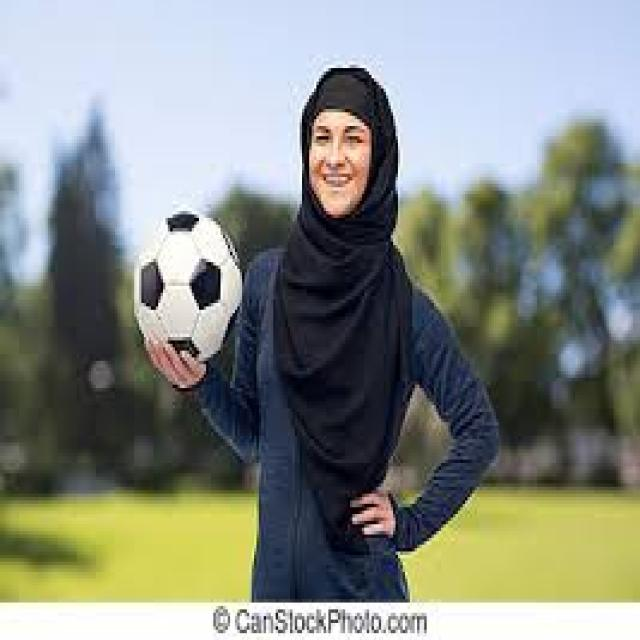Happy: (299, 74, 398, 260)
